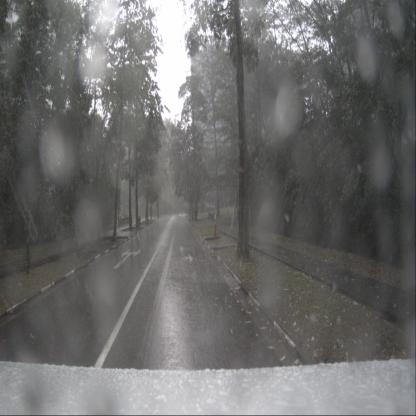vehicle-car: (204, 202, 215, 212)
